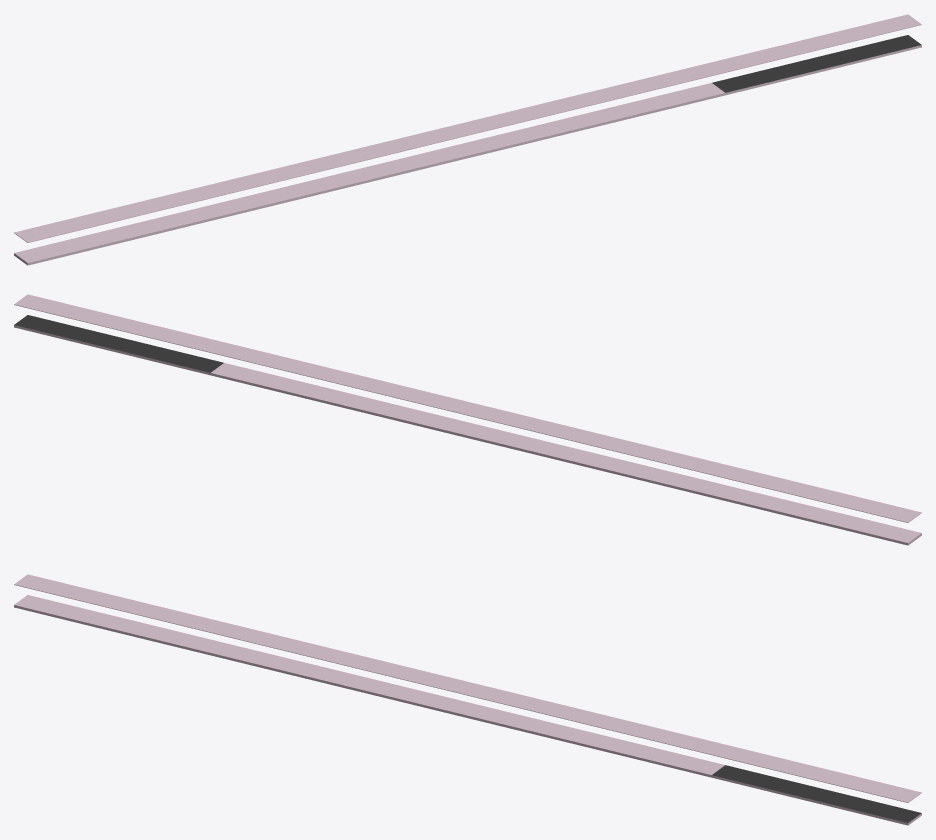
File: corridor.fbx
The picture shows the model from 3 angles, top to bottom: view 1: azimuth 30°, elevation 25°; view 2: azimuth 150°, elevation 25°; view 3: azimuth 330°, elevation 25°; orthographic projection.
Parts seen in each view (by area): view 1: Corridor; view 2: Corridor; view 3: Corridor.
Boxes of the visible parts, x1=… form: Corridor: x1=14, y1=14, x2=921, y2=265; Corridor: x1=14, y1=294, x2=921, y2=545; Corridor: x1=14, y1=574, x2=921, y2=825.
Size of the model in its own units: 18700 by 460 by 500.
